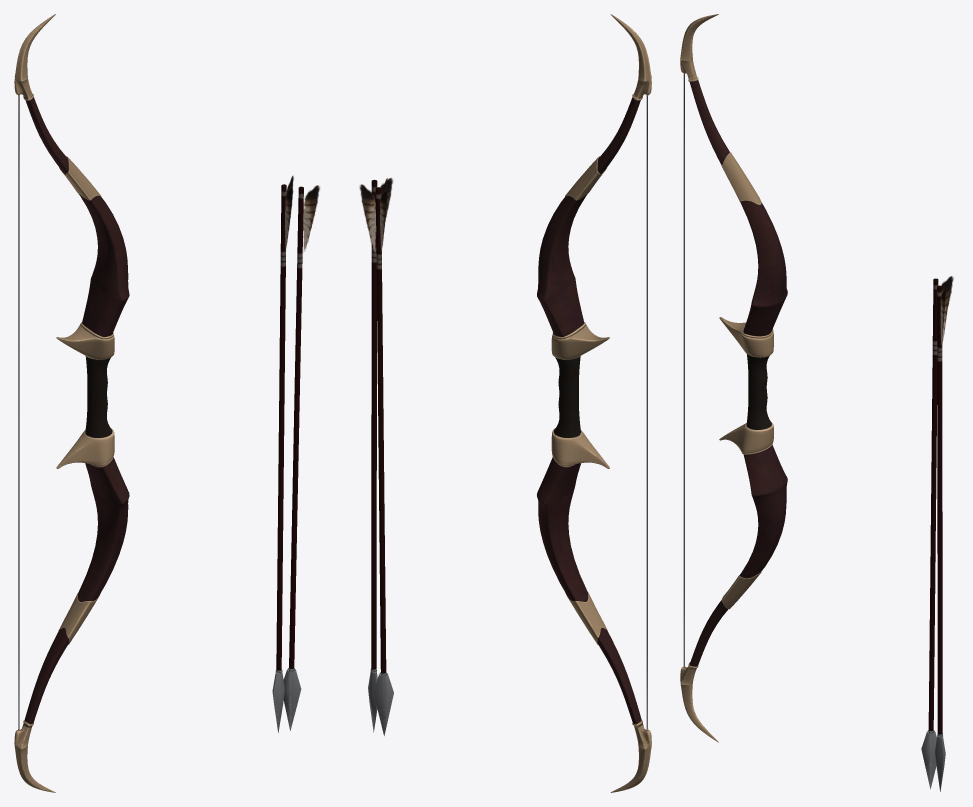
The model's file is bow.glb.
3 renders of one model, left to right at view 1: azimuth 30°, elevation 25°; view 2: azimuth 150°, elevation 25°; view 3: azimuth 330°, elevation 25°, orthographic. The views are drawn at different scales.
Visible parts, largest first — view 1: bow, arrow.001, arrow; view 2: bow, arrow, arrow.001; view 3: bow, arrow.001, arrow.
Part boxes in pixels (left/top/right/bottom): bow: left=14, top=14, right=129, bottom=792; arrow.001: left=283, top=185, right=320, bottom=730; arrow: left=272, top=176, right=293, bottom=732; bow: left=537, top=14, right=651, bottom=792; arrow: left=359, top=178, right=393, bottom=735; arrow.001: left=368, top=178, right=393, bottom=732; bow: left=680, top=14, right=787, bottom=742; arrow.001: left=935, top=277, right=950, bottom=791; arrow: left=921, top=276, right=953, bottom=789.
Bounding box in the file's own units: 0.4754 × 1.19 × 0.0861.
4 materials, 4 textured.
